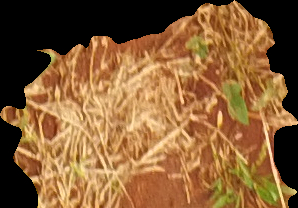soil: (5, 4, 297, 206)
